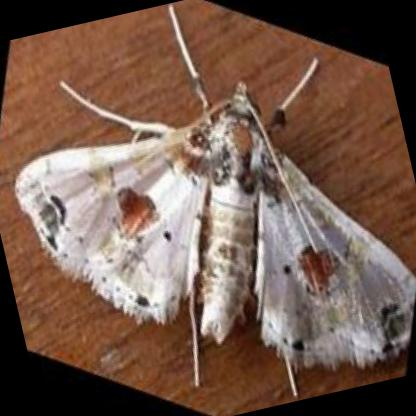leucinodes: (13, 12, 415, 371)
